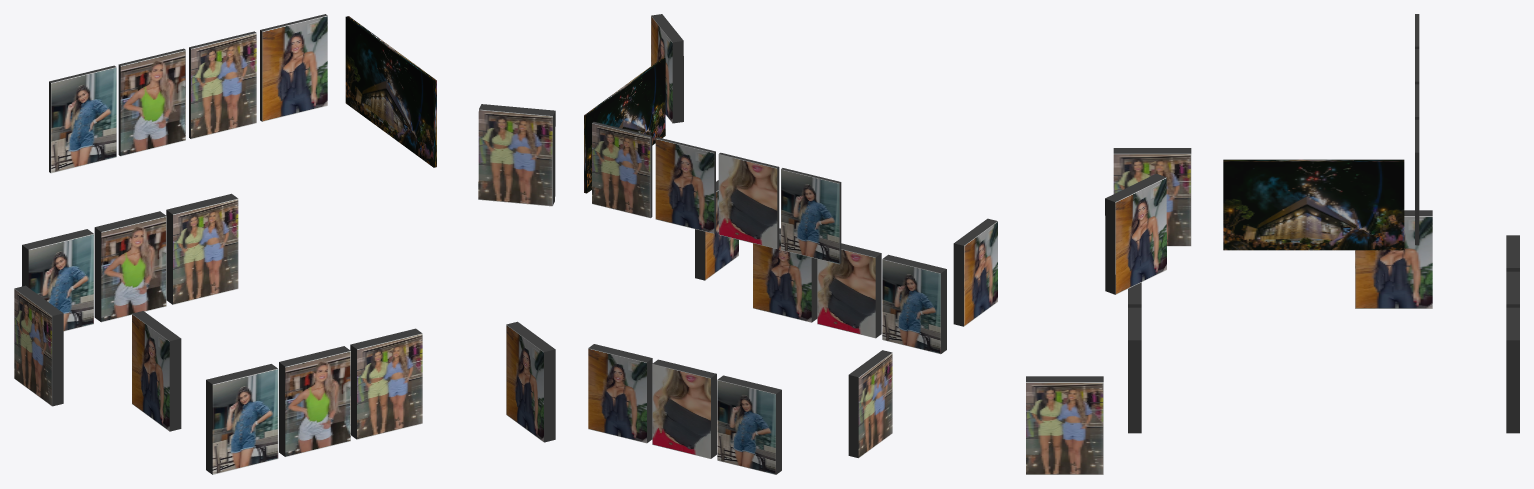
Rendered from photos.gltf.
The picture shows the model from 3 angles, left to right: view 1: azimuth 30°, elevation 25°; view 2: azimuth 150°, elevation 25°; view 3: azimuth 270°, elevation 25°; orthographic projection. The views are drawn at different scales.
Parts seen in each view (by area): view 1: Box036_StaticMeshComponent0, Object003_StaticMeshComponent0, Box023_StaticMeshComponent0.004, Box030_StaticMeshComponent0.002, Box023_StaticMeshComponent0.003, Box030_StaticMeshComponent0.004, Box030_StaticMeshComponent0.003, Box022_StaticMeshComponent0.003, Box022_StaticMeshComponent0.002, Box022_StaticMeshComponent0.004, Box022_StaticMeshComponent0.001, Box023_StaticMeshComponent0.002 (+3 smaller); view 2: Box030_StaticMeshComponent0.002, Box023_StaticMeshComponent0.002, Box023_StaticMeshComponent0.003, Box023_StaticMeshComponent0.004, Box022_StaticMeshComponent0.002, Box030_StaticMeshComponent0.003, Box022_StaticMeshComponent0.001, Box022_StaticMeshComponent0.003, Box022_StaticMeshComponent0.004, Box030_StaticMeshComponent0.004, Box036_StaticMeshComponent0, Object002_StaticMeshComponent0.001 (+3 smaller); view 3: Box036_StaticMeshComponent0, Object001_StaticMeshComponent0.001, Object003_StaticMeshComponent0, Object004_StaticMeshComponent0, Object002_StaticMeshComponent0.001, Box030_StaticMeshComponent0.004, Box023_StaticMeshComponent0.004, Box022_StaticMeshComponent0.004, Box023_StaticMeshComponent0.002, Box023_StaticMeshComponent0.003.
Boxes of the visible parts, left/top/right/bottom form: Box036_StaticMeshComponent0: left=345, top=16, right=436, bottom=167; Object003_StaticMeshComponent0: left=478, top=104, right=555, bottom=206; Box023_StaticMeshComponent0.004: left=166, top=193, right=238, bottom=304; Box030_StaticMeshComponent0.002: left=206, top=364, right=278, bottom=474; Box023_StaticMeshComponent0.003: left=94, top=211, right=166, bottom=322; Box030_StaticMeshComponent0.004: left=350, top=328, right=422, bottom=439; Box030_StaticMeshComponent0.003: left=279, top=346, right=350, bottom=456; Box022_StaticMeshComponent0.003: left=189, top=31, right=256, bottom=139; Box022_StaticMeshComponent0.002: left=118, top=48, right=185, bottom=156; Box022_StaticMeshComponent0.004: left=260, top=14, right=327, bottom=121; Box022_StaticMeshComponent0.001: left=49, top=65, right=116, bottom=173; Box023_StaticMeshComponent0.002: left=22, top=229, right=93, bottom=331; Box030_StaticMeshComponent0.002: left=882, top=254, right=946, bottom=354; Box023_StaticMeshComponent0.002: left=717, top=375, right=781, bottom=474; Box023_StaticMeshComponent0.003: left=652, top=359, right=716, bottom=458; Box023_StaticMeshComponent0.004: left=588, top=344, right=652, bottom=443; Box022_StaticMeshComponent0.002: left=718, top=152, right=779, bottom=248; Box030_StaticMeshComponent0.003: left=817, top=243, right=881, bottom=338; Box022_StaticMeshComponent0.001: left=781, top=168, right=841, bottom=264; Box022_StaticMeshComponent0.003: left=655, top=137, right=715, bottom=233; Box022_StaticMeshComponent0.004: left=592, top=122, right=652, bottom=218; Box030_StaticMeshComponent0.004: left=753, top=228, right=817, bottom=322; Box036_StaticMeshComponent0: left=584, top=57, right=665, bottom=193; Object002_StaticMeshComponent0.001: left=953, top=218, right=997, bottom=326; Box036_StaticMeshComponent0: left=1223, top=159, right=1404, bottom=250; Object001_StaticMeshComponent0.001: left=1026, top=376, right=1103, bottom=474; Object003_StaticMeshComponent0: left=1105, top=173, right=1166, bottom=294; Object004_StaticMeshComponent0: left=1355, top=210, right=1432, bottom=308; Object002_StaticMeshComponent0.001: left=1113, top=148, right=1191, bottom=246; Box030_StaticMeshComponent0.004: left=1128, top=307, right=1141, bottom=433; Box023_StaticMeshComponent0.004: left=1506, top=307, right=1519, bottom=433; Box022_StaticMeshComponent0.004: left=1415, top=119, right=1419, bottom=245; Box023_StaticMeshComponent0.002: left=1506, top=235, right=1519, bottom=271; Box023_StaticMeshComponent0.003: left=1506, top=271, right=1519, bottom=307.
Size of what is drawn, in the model's own units: 11.19 by 8.17 by 12.05.
3 materials, 2 textured.
